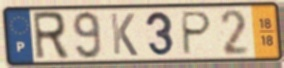2: (218, 8, 251, 58)
3: (142, 9, 177, 58)
9: (70, 9, 104, 61)
K: (108, 11, 140, 58)
P: (181, 10, 214, 57)
R: (30, 10, 71, 63)
